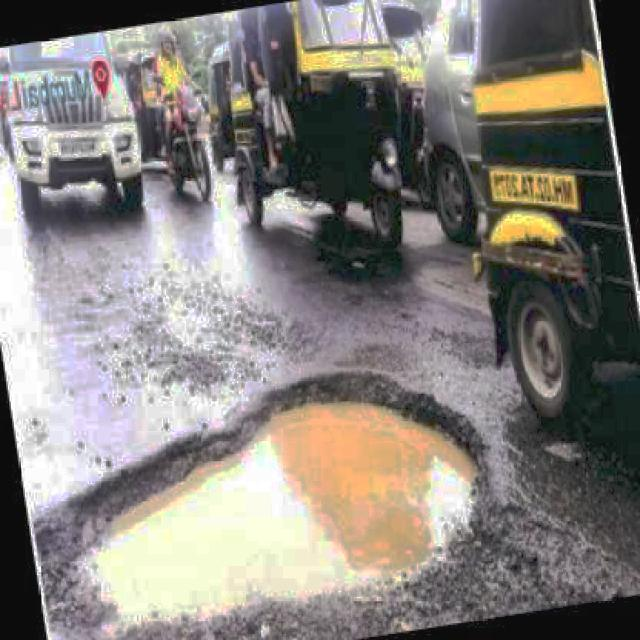pothole: (35, 355, 503, 640)
